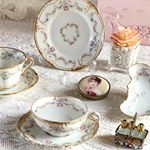cups: (1, 46, 36, 94)
